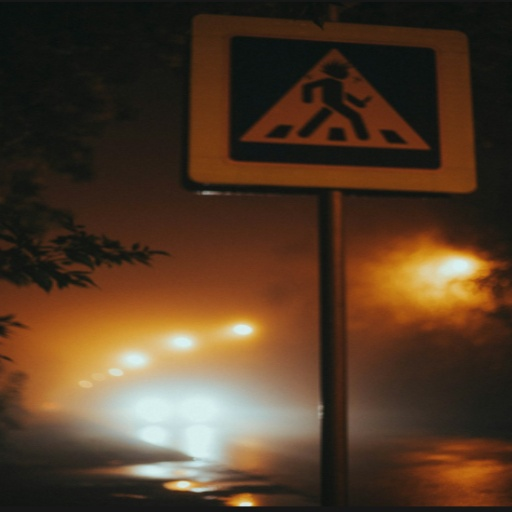Pedestrian crossing: (205, 30, 455, 188)
